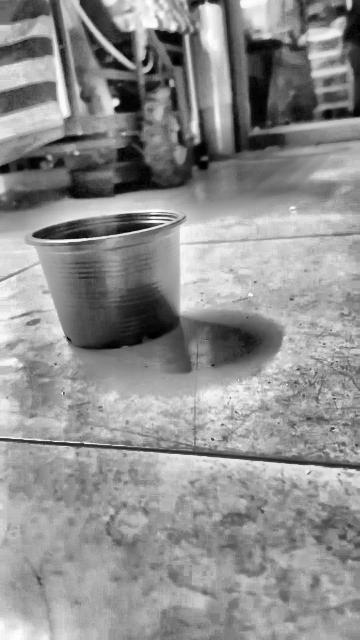pot: (27, 211, 186, 349)
